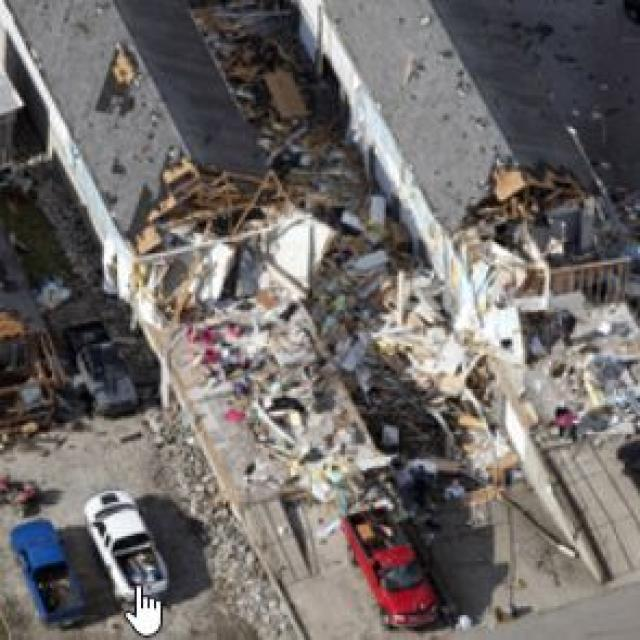collapsed_building: (395, 75, 627, 450), (117, 118, 345, 488)
